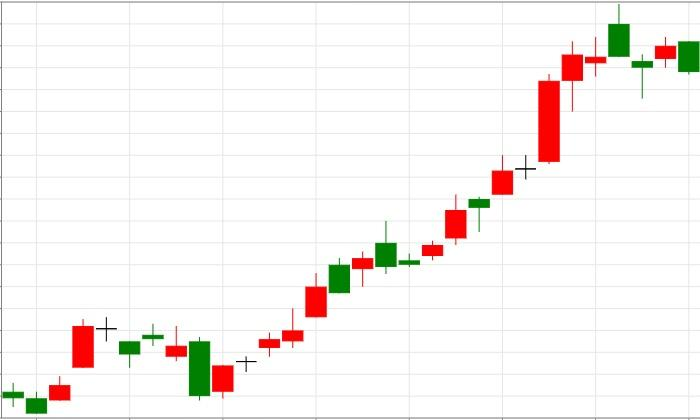evening_star_fall: (26, 316, 140, 414)
hanging_man_fall: (422, 42, 584, 260)
